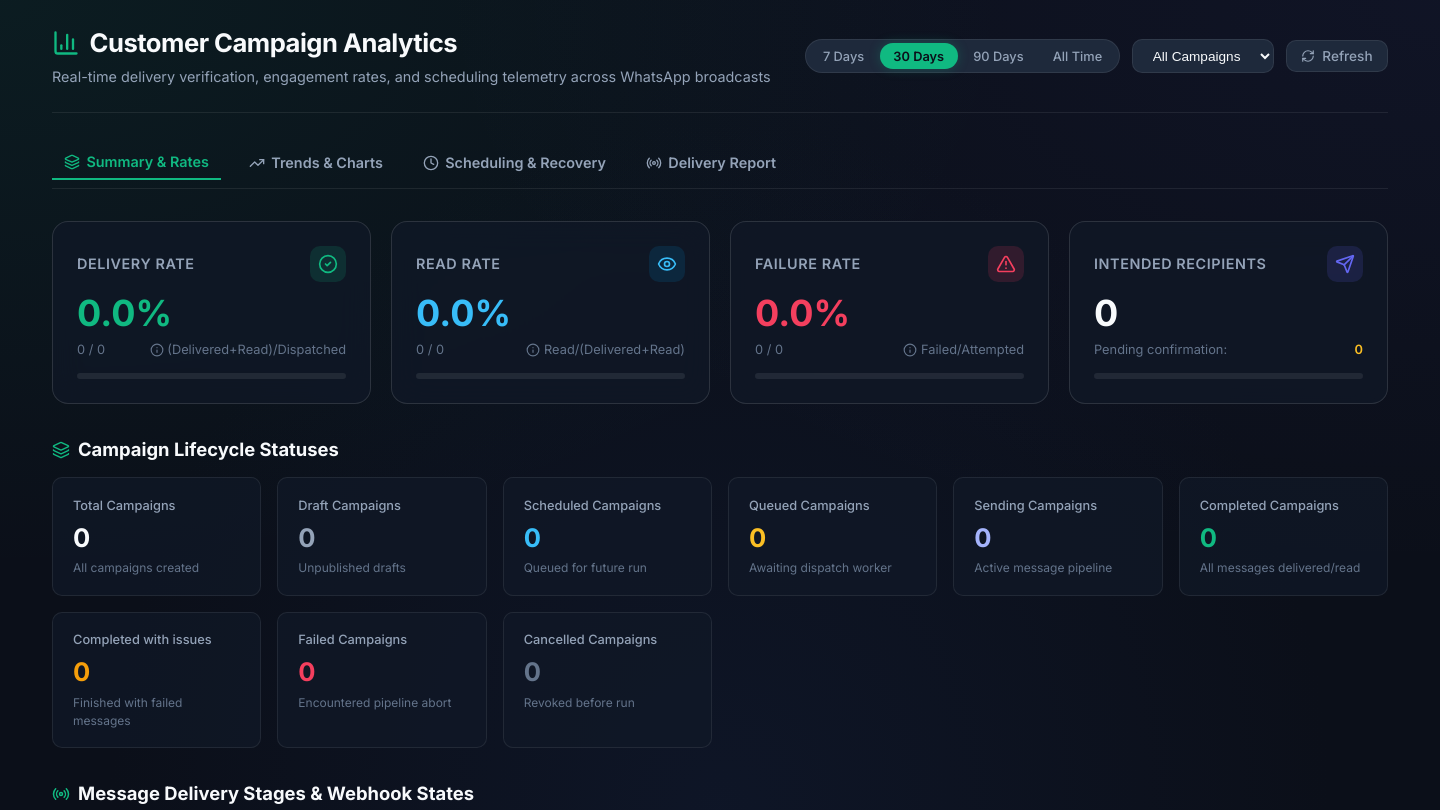
AnalyticsPage Frontend Component › renders trends and charts tab with message volume and failure reasons breakdown
Note: Switch to Trends & Charts tab
Step 1. Click the button "Trends & Charts" → (316, 162), box [237, 146, 395, 179]
(page scrolled)
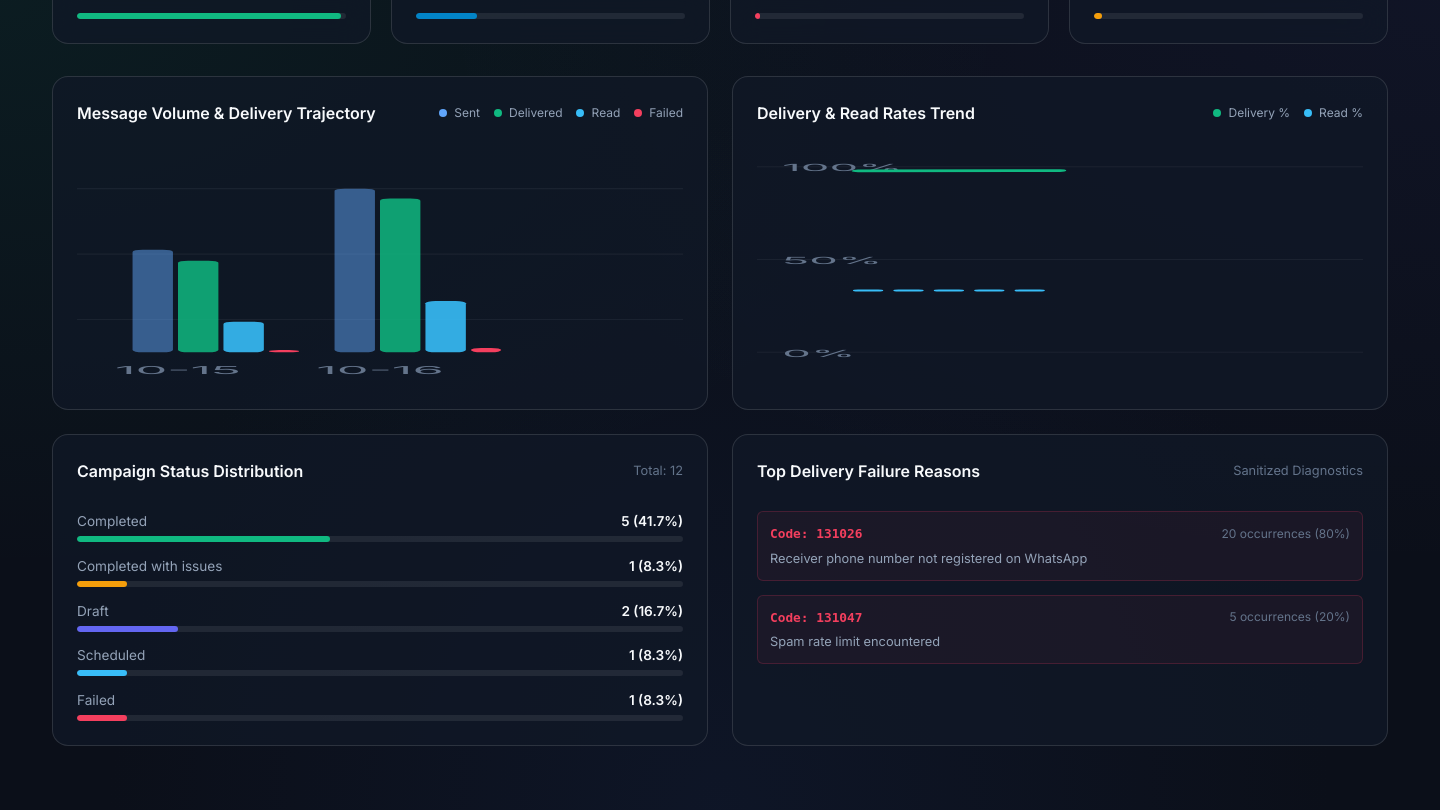
Expected: the element with test id "chart-message-volume" is shown, [52, 76, 708, 410]
Expected: the element with test id "chart-rates-trend" is shown, [732, 76, 1388, 410]
Expected: the element with test id "chart-status-distribution" is shown, [52, 434, 708, 746]
